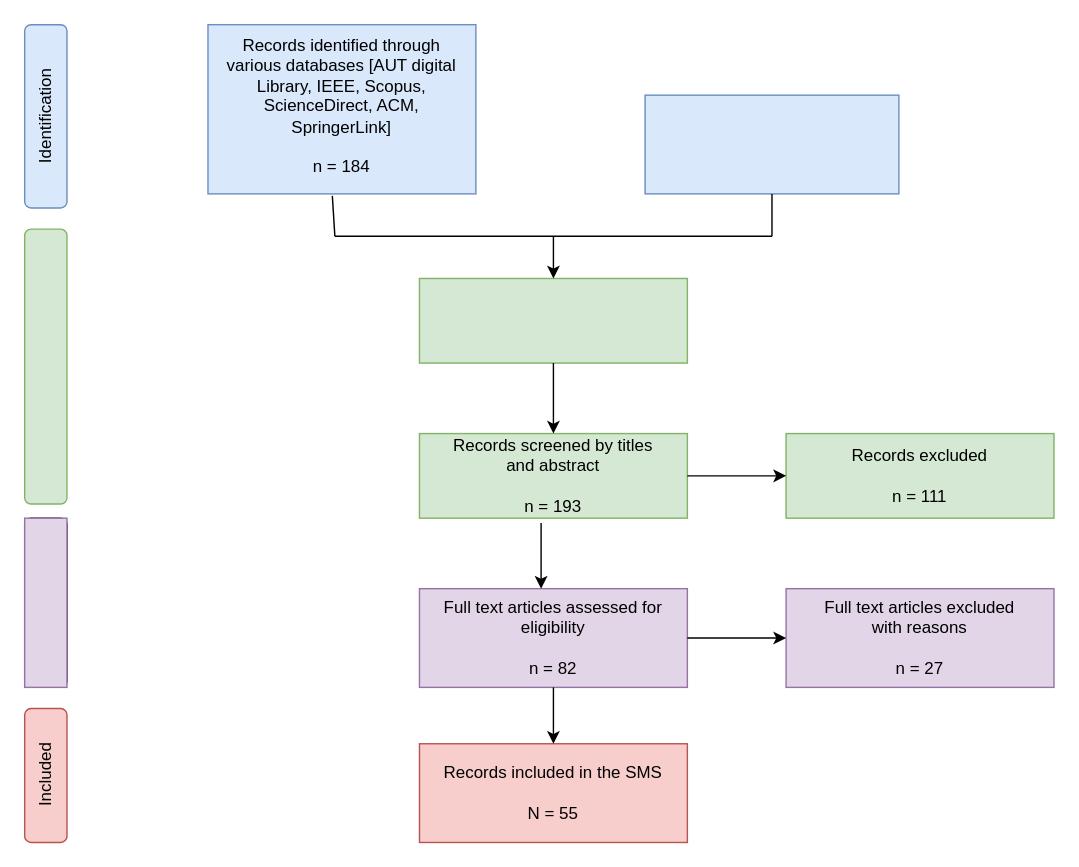
Image size: 1079x867. Some labels were removed from this diagram. The shapes that lost their labels are listed below. From the top down, each one's centre as x and y in pixels, then its label:
(771,144): Additional records identified through other sources n = 47
(552,320): Records after duplicated removed n = 206
(45,366): Screening
(45,602): Eligibility
